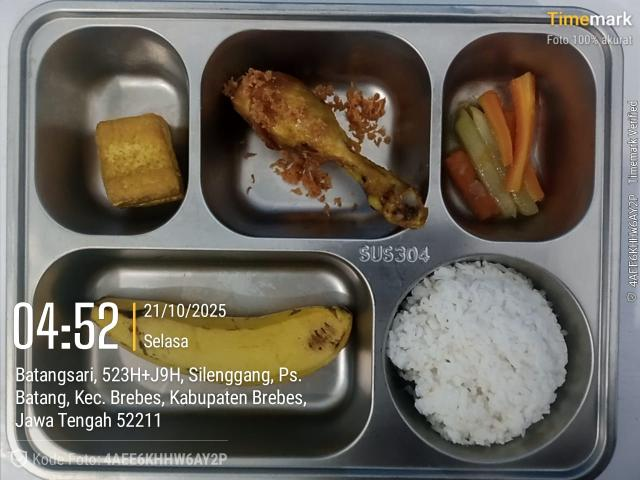ayam: (226, 69, 428, 228)
buah: (91, 297, 352, 385)
nasi: (388, 261, 568, 446)
sayur: (444, 72, 546, 224)
tahu: (96, 113, 184, 208)
